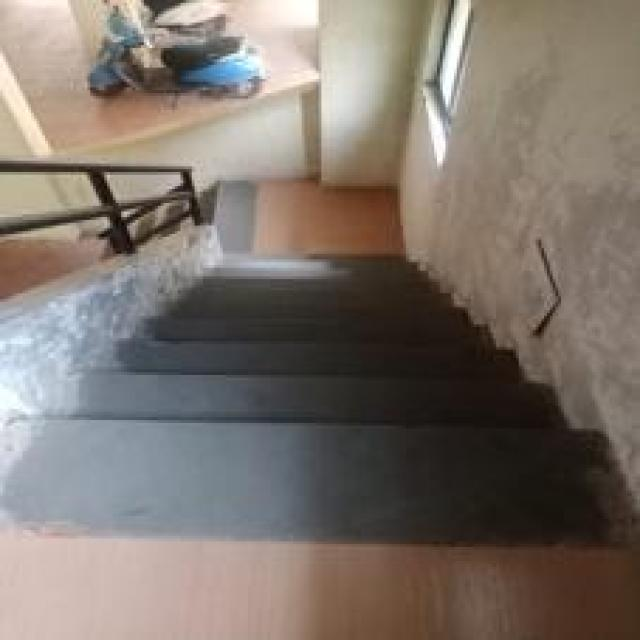downstair: (91, 295, 486, 495)
